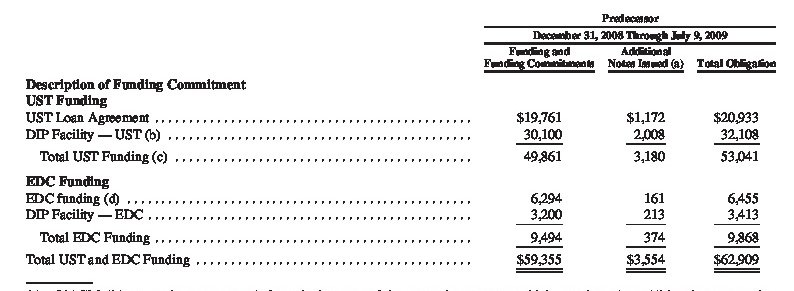table: (0, 0, 794, 291)
